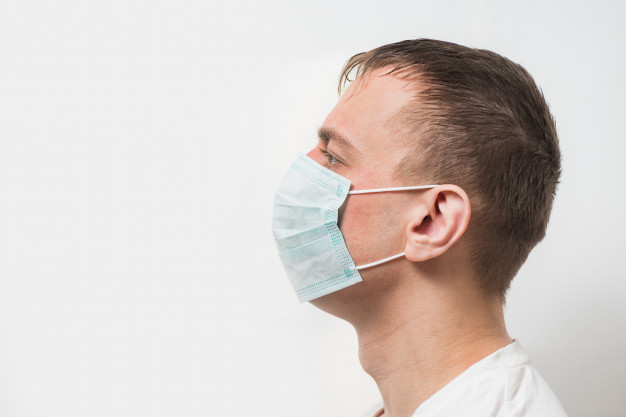with_mask: (261, 36, 558, 351)
